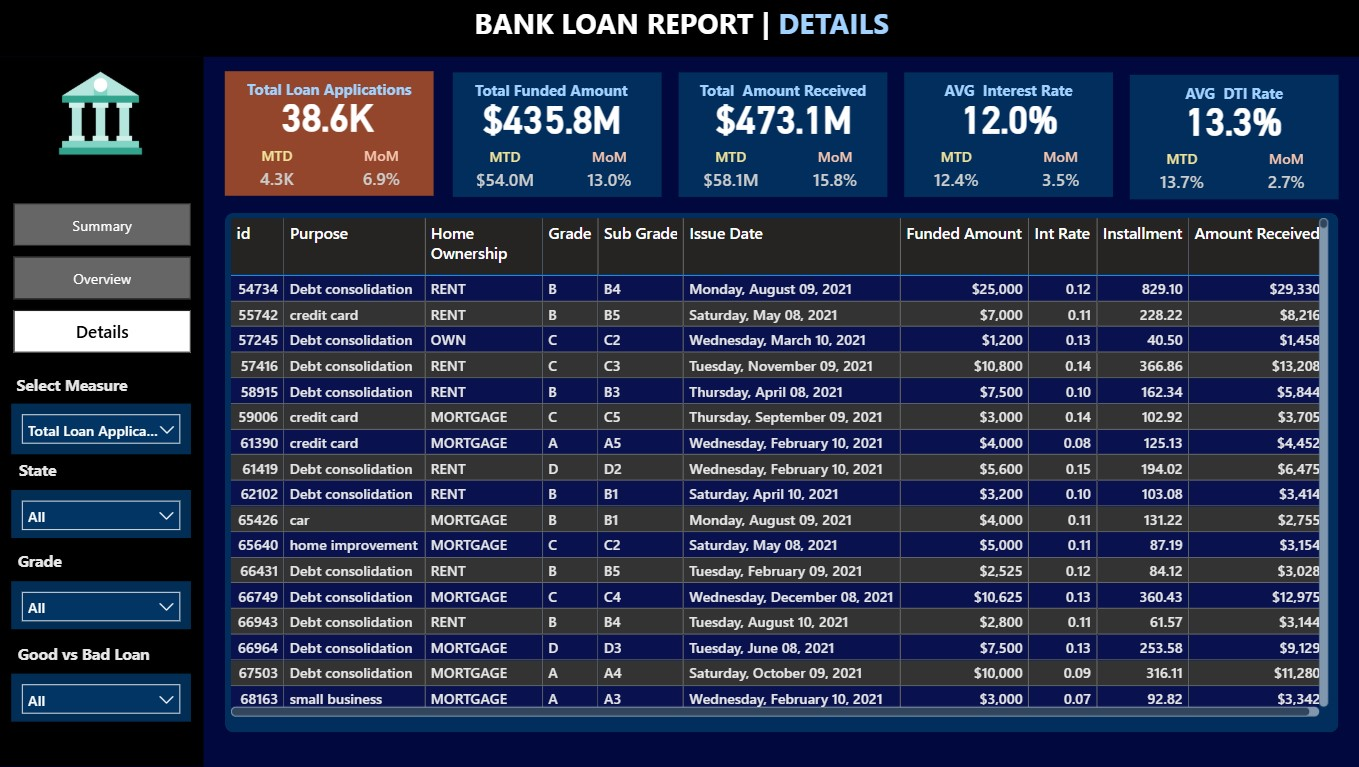

This screenshot's page, from the dashboard's own definition file:
{"tool":"powerbi","page":{"name":"Details","canvas":[1280,720],"ordinal":2},"visuals":[{"type":"shape","box":[0,55.2,192.5,664.7],"z":0},{"type":"shape","box":[212.3,68.9,195.5,116.9],"z":0,"group":"g1"},{"type":"shape","box":[426.2,69.3,195.5,116.9],"z":0,"group":"g2"},{"type":"shape","box":[638.1,69.3,195.5,116.9],"z":0,"group":"g3"},{"type":"shape","box":[849.4,69.3,195.5,116.9],"z":0,"group":"g4"},{"type":"shape","box":[1060.7,71.5,195.5,116.9],"z":0,"group":"g5"},{"type":"shape","box":[0,0,1280.6,55],"z":1000},{"type":"card","fields":{"Values":["bank_loan_data.Total Loan Applications"]},"box":[211.2,79.8,194.4,58.4],"z":1000,"group":"g1"},{"type":"card","fields":{"Values":["bank_loan_data.AVG DTI"]},"box":[1062.5,82.7,190,58.9],"z":1000,"group":"g5"},{"type":"card","fields":{"Values":["bank_loan_data.Total Funded Amount"]},"box":[428.9,83,178.9,56.7],"z":1000,"group":"g2"},{"type":"card","fields":{"Values":["bank_loan_data.Total Amount Received"]},"box":[640.1,83,192.2,56.7],"z":1000,"group":"g3"},{"type":"card","fields":{"Values":["bank_loan_data.AVG Interest Rate"]},"box":[853.7,83,187.8,56.7],"z":1000,"group":"g4"},{"type":"textbox","box":[411.9,0,456.8,55.2],"z":2000},{"type":"textbox","box":[212.3,71.1,195.5,33.7],"z":2000,"group":"g1"},{"type":"textbox","box":[638.1,71.5,195.5,33.7],"z":2000,"group":"g3"},{"type":"textbox","box":[849.4,71.5,195.5,33.7],"z":2000,"group":"g4"},{"type":"textbox","box":[428.9,71.9,177.8,33.3],"z":2000,"group":"g2"},{"type":"textbox","box":[1060.7,73.7,195.5,33.7],"z":2000,"group":"g5"},{"type":"group","id":"g1","title":"Group 1","box":[211.2,68.9,196.6,116.9],"z":3000},{"type":"card","title":"MTD","fields":{"Values":["bank_loan_data.MTD Loan Applications"]},"box":[212.1,138.9,97.8,42.7],"z":3000,"group":"g1"},{"type":"card","title":"MTD","fields":{"Values":["bank_loan_data.MTD Funded Amount"]},"box":[426,139.3,97.8,42.7],"z":3000,"group":"g2"},{"type":"card","title":"MTD","fields":{"Values":["bank_loan_data.MTD Total Amount Received"]},"box":[637.9,139.3,97.8,42.7],"z":3000,"group":"g3"},{"type":"card","title":"MTD","fields":{"Values":["bank_loan_data.MTD AVG Interest Rate"]},"box":[849.2,139.3,97.8,42.7],"z":3000,"group":"g4"},{"type":"card","title":"MTD","fields":{"Values":["bank_loan_data.MTD AVG DTI"]},"box":[1060.5,141.5,97.8,42.7],"z":3000,"group":"g5"},{"type":"group","id":"g2","title":"Group 1","box":[426,69.3,195.7,116.9],"z":4000},{"type":"card","title":"MoM","fields":{"Values":["bank_loan_data.MoM Loan Applications"]},"box":[309.8,138.9,97.8,42.7],"z":4000,"group":"g1"},{"type":"card","title":"MoM","fields":{"Values":["bank_loan_data.MoM Funded Amount"]},"box":[523.8,139.3,97.8,42.7],"z":4000,"group":"g2"},{"type":"card","title":"MoM","fields":{"Values":["bank_loan_data.MoM Total Amount Received"]},"box":[735.7,139.3,97.8,42.7],"z":4000,"group":"g3"},{"type":"card","title":"MoM","fields":{"Values":["bank_loan_data.MoM AVG Interest Rate"]},"box":[947,139.3,97.8,42.7],"z":4000,"group":"g4"},{"type":"card","title":"MoM","fields":{"Values":["bank_loan_data.MoM AVG DTI"]},"box":[1158.3,141.5,97.8,42.7],"z":4000,"group":"g5"},{"type":"group","id":"g3","title":"Group 1","box":[637.9,69.3,195.7,116.9],"z":5000},{"type":"group","id":"g4","title":"Group 1","box":[849.2,69.3,195.7,116.9],"z":6000},{"type":"group","id":"g5","title":"Group 1","box":[1060.5,71.5,195.7,116.9],"z":7000},{"type":"slicer","fields":{"Values":["bank_loan_data.address_state"]},"box":[12.8,460.4,168.1,44.9],"z":8000},{"type":"group","id":"g6","title":"Group 2","box":[12.8,512.2,168.1,78.3],"z":9000},{"type":"textbox","box":[14.1,427,166.8,33.4],"z":10000},{"type":"group","id":"g7","title":"Group 2","box":[12.8,599,168.1,78.3],"z":11000},{"type":"textbox","box":[12.4,347.2,167.4,32.6],"z":12000},{"type":"slicer","fields":{"Values":["Select Measure.Select Measure"]},"box":[12.4,379.8,168.6,47.2],"z":13000},{"type":"shape","box":[212.4,201.2,1044,486.6],"z":14000},{"type":"tableEx","fields":{"Values":["bank_loan_data.id","bank_loan_data.purpose","bank_loan_data.home_ownership","bank_loan_data.grade","bank_loan_data.sub_grade","bank_loan_data.issue_date","bank_loan_data.Total Funded Amount","bank_loan_data.int_rate","bank_loan_data.installment","bank_loan_data.Total Amount Received"]},"box":[212.4,201.2,1039.5,476.5],"z":15000},{"type":"pageNavigator","box":[14.6,192,166.3,140.5],"z":16000},{"type":"image","box":[39.3,56.1,113.5,103.4],"z":17000},{"type":"slicer","fields":{"Values":["bank_loan_data.grade"]},"box":[12.8,545.6,168.1,44.9],"z":21000,"group":"g6"},{"type":"slicer","fields":{"Values":["bank_loan_data.Good vs Bad Loan"]},"box":[12.8,632.4,168.1,44.9],"z":21000,"group":"g7"},{"type":"textbox","box":[14.1,512.2,166.8,33.4],"z":23000,"group":"g6"},{"type":"textbox","box":[14.1,599,166.8,33.4],"z":23000,"group":"g7"}]}

Visuals, with their boxes in screenshot pixels (x1, y1, x2, y2), scaled from the page's 1280x720 canvas onto the 1359x767 screenshot:
shape: 0, 59, 204, 766
shape: 225, 73, 433, 198
shape: 453, 74, 660, 198
shape: 677, 74, 885, 198
shape: 902, 74, 1109, 198
shape: 1126, 76, 1334, 201
shape: 0, 0, 1358, 59
card - bank_loan_data.Total Loan Applications: 224, 85, 431, 147
card - bank_loan_data.AVG DTI: 1128, 88, 1330, 151
card - bank_loan_data.Total Funded Amount: 455, 88, 645, 149
card - bank_loan_data.Total Amount Received: 680, 88, 884, 149
card - bank_loan_data.AVG Interest Rate: 906, 88, 1106, 149
textbox: 437, 0, 922, 59
textbox: 225, 76, 433, 112
textbox: 677, 76, 885, 112
textbox: 902, 76, 1109, 112
textbox: 455, 77, 644, 112
textbox: 1126, 79, 1334, 114
"Group 1" group: 224, 73, 433, 198
"MTD" card: 225, 148, 329, 193
"MTD" card: 452, 148, 556, 194
"MTD" card: 677, 148, 781, 194
"MTD" card: 902, 148, 1005, 194
"MTD" card: 1126, 151, 1230, 196
"Group 1" group: 452, 74, 660, 198
"MoM" card: 329, 148, 433, 193
"MoM" card: 556, 148, 660, 194
"MoM" card: 781, 148, 885, 194
"MoM" card: 1005, 148, 1109, 194
"MoM" card: 1230, 151, 1334, 196
"Group 1" group: 677, 74, 885, 198
"Group 1" group: 902, 74, 1109, 198
"Group 1" group: 1126, 76, 1334, 201
slicer - bank_loan_data.address_state: 14, 490, 192, 538
"Group 2" group: 14, 546, 192, 629
textbox: 15, 455, 192, 490
"Group 2" group: 14, 638, 192, 722
textbox: 13, 370, 191, 405
slicer - Select Measure.Select Measure: 13, 405, 192, 455
shape: 226, 214, 1334, 733
tableEx - bank_loan_data.id x bank_loan_data.purpose: 226, 214, 1329, 722
pageNavigator: 16, 205, 192, 354
image: 42, 60, 162, 170
slicer - bank_loan_data.grade: 14, 581, 192, 629
slicer - bank_loan_data.Good vs Bad Loan: 14, 674, 192, 722
textbox: 15, 546, 192, 581
textbox: 15, 638, 192, 674
